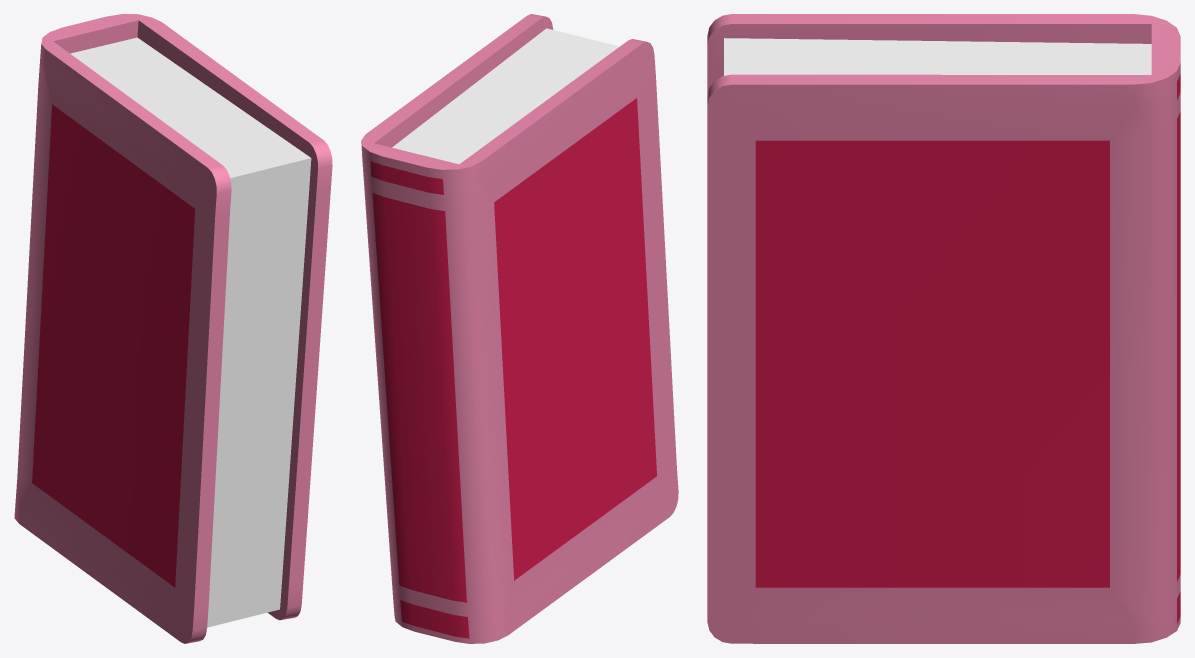
The model's file is book_3.fbx.
3 renders of one model, left to right at view 1: azimuth 30°, elevation 25°; view 2: azimuth 150°, elevation 25°; view 3: azimuth 270°, elevation 25°, orthographic. The views are drawn at different scales.
Parts seen in each view (by area): view 1: book_3; view 2: book_3; view 3: book_3.
Part boxes in pixels (x1,y1,x2,y2): book_3: (14,14,332,643); book_3: (361,14,678,643); book_3: (707,14,1180,643).
Size of the model in its own units: 0.1101 by 0.3466 by 0.2557.
